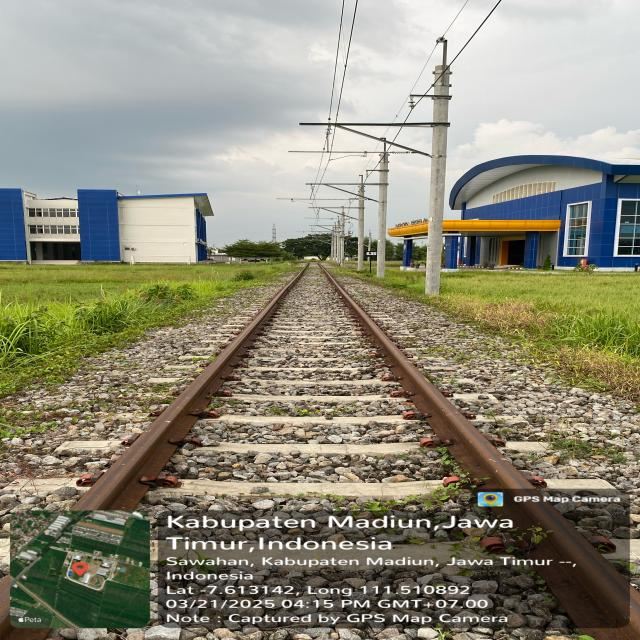rail-detection: (318, 262, 640, 640), (72, 262, 309, 510)
